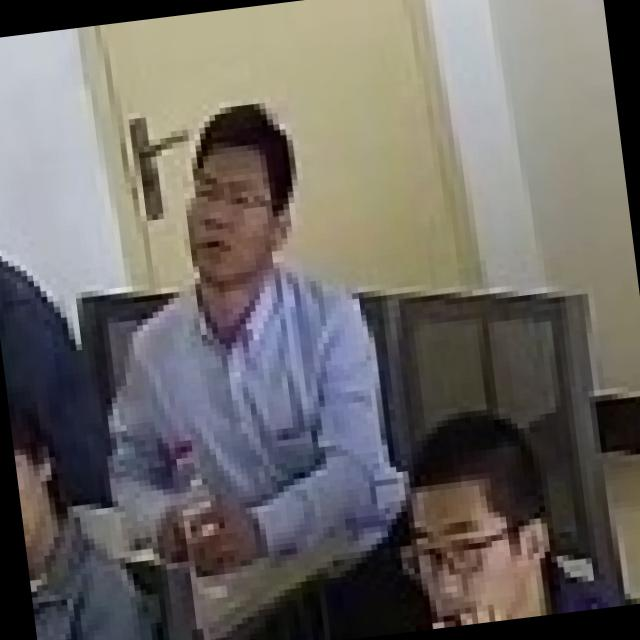listen: (78, 77, 420, 470), (352, 382, 636, 635)
